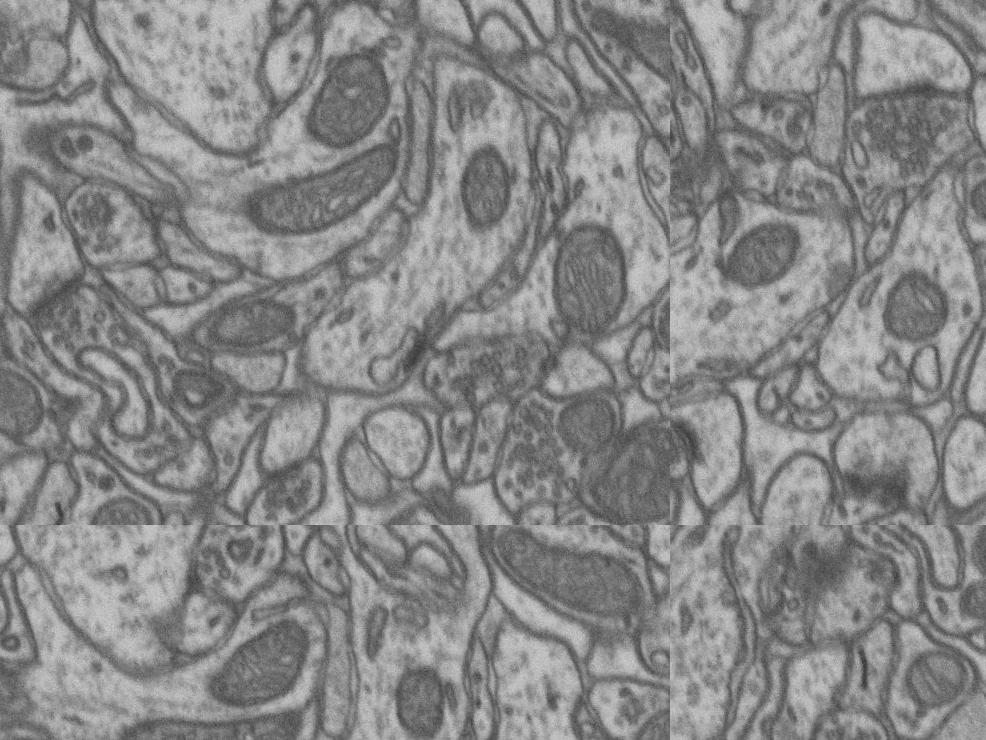mitochondria: (239, 134, 406, 241), (489, 525, 646, 620), (294, 46, 396, 156), (545, 214, 634, 340), (575, 415, 670, 525), (203, 618, 312, 713), (579, 0, 670, 102), (875, 255, 962, 352), (716, 210, 809, 296), (112, 702, 305, 740), (202, 288, 300, 354), (453, 143, 516, 240), (899, 640, 975, 717), (389, 663, 451, 738), (0, 356, 50, 443), (558, 388, 622, 448), (164, 364, 233, 416), (84, 489, 157, 525), (962, 165, 986, 245), (384, 506, 465, 525), (628, 706, 670, 740), (960, 583, 986, 623)
